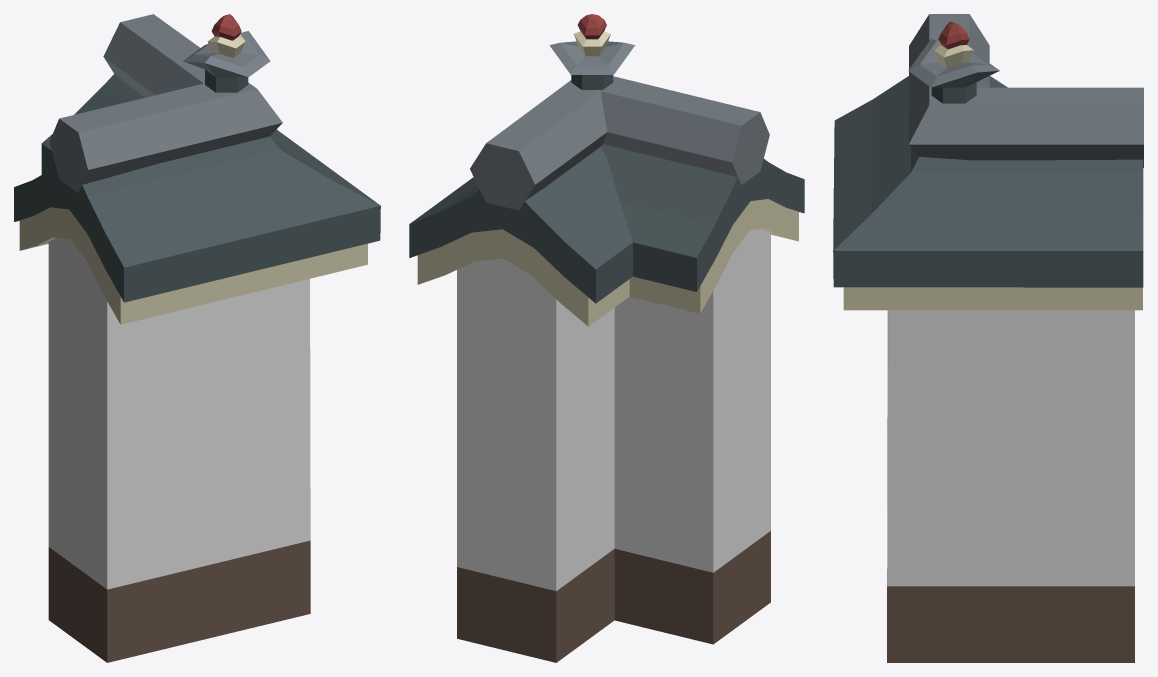
Rendered from corner-wall.glb.
The picture shows the model from 3 angles, left to right: view 1: azimuth 30°, elevation 25°; view 2: azimuth 150°, elevation 25°; view 3: azimuth 270°, elevation 25°; orthographic projection. The views are drawn at different scales.
Parts seen in each view (by area): view 1: OWnG_cornerPilaster_01; view 2: OWnG_cornerPilaster_01; view 3: OWnG_cornerPilaster_01.
Boxes of the visible parts, left/top/right/bottom form: OWnG_cornerPilaster_01: left=14, top=14, right=380, bottom=662; OWnG_cornerPilaster_01: left=409, top=14, right=804, bottom=662; OWnG_cornerPilaster_01: left=833, top=14, right=1143, bottom=662.
Size of the model in its own units: 2.96 by 6.48 by 2.97.
